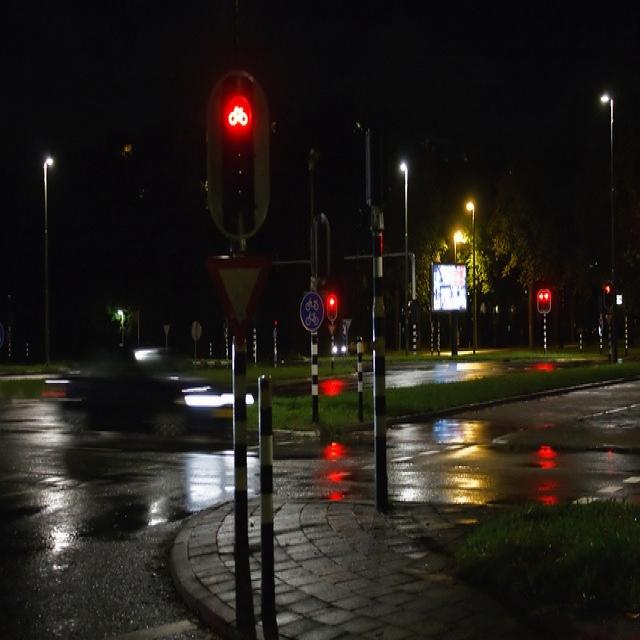car: (39, 346, 253, 436), (331, 334, 347, 354)
pole: (365, 212, 392, 510)
warning_column: (225, 339, 255, 629), (254, 369, 282, 626)
